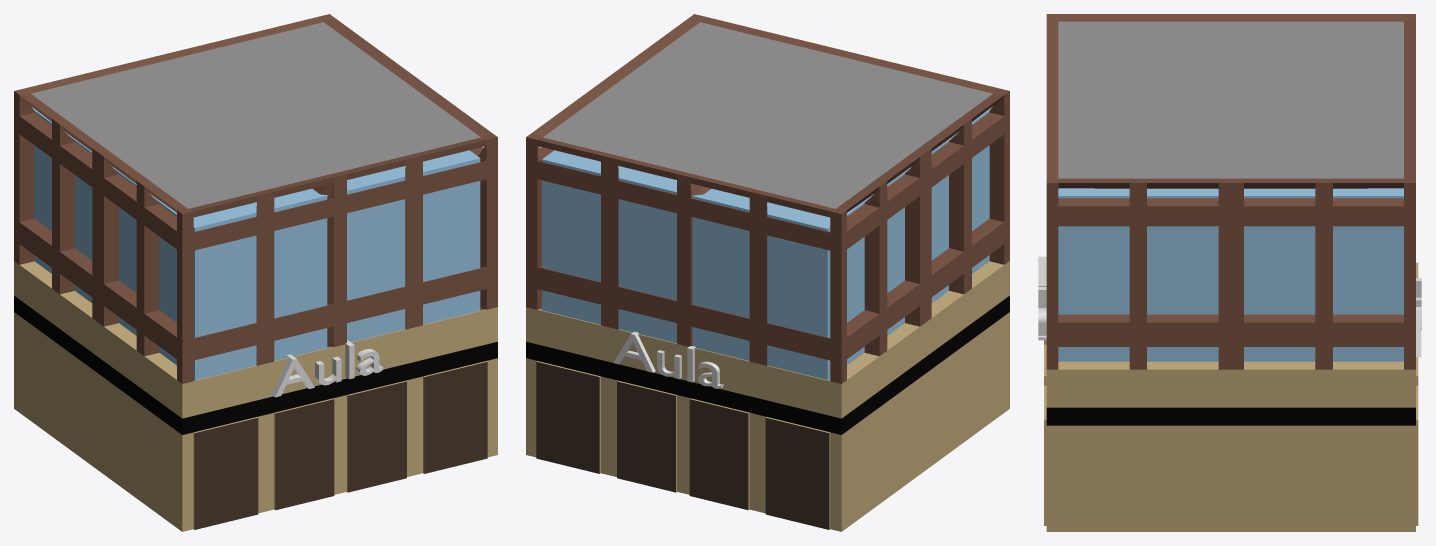
Rendered from Aula.fbx.
The picture shows the model from 3 angles, left to right: view 1: azimuth 30°, elevation 25°; view 2: azimuth 150°, elevation 25°; view 3: azimuth 270°, elevation 25°; orthographic projection. The views are drawn at different scales.
Parts seen in each view (by area): view 1: Cube.001, Cube, Text; view 2: Cube.001, Cube, Text.001; view 3: Cube.001, Cube, Text, Text.001.
Boxes of the visible parts, x1,y1,x2,y2 form: Cube.001: [14, 14, 497, 531]; Cube: [32, 107, 480, 380]; Text: [271, 340, 383, 397]; Cube.001: [526, 14, 1009, 531]; Cube: [542, 108, 991, 380]; Text.001: [613, 331, 723, 388]; Cube.001: [1044, 14, 1418, 531]; Cube: [1058, 188, 1403, 361]; Text: [1038, 256, 1046, 340]; Text.001: [1416, 278, 1421, 357].
Size of the model in its own units: 464 by 447 by 445.
